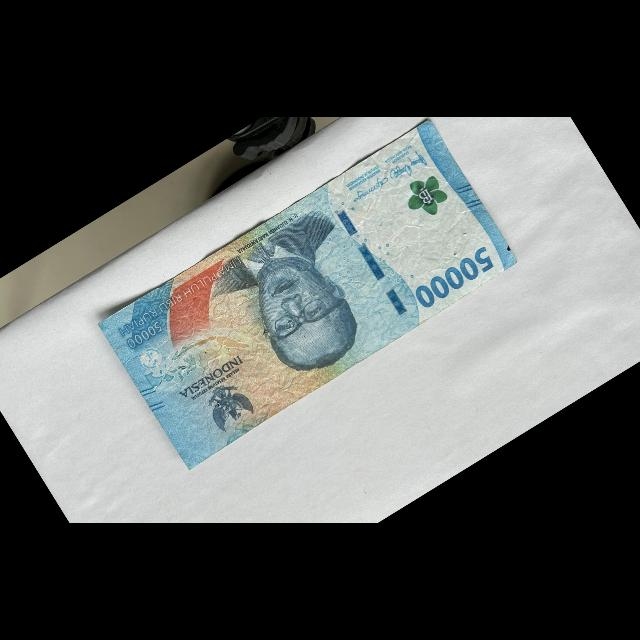Palsu-50k: (91, 110, 524, 477)
Tinta-Palsu-50k: (396, 168, 454, 227)
